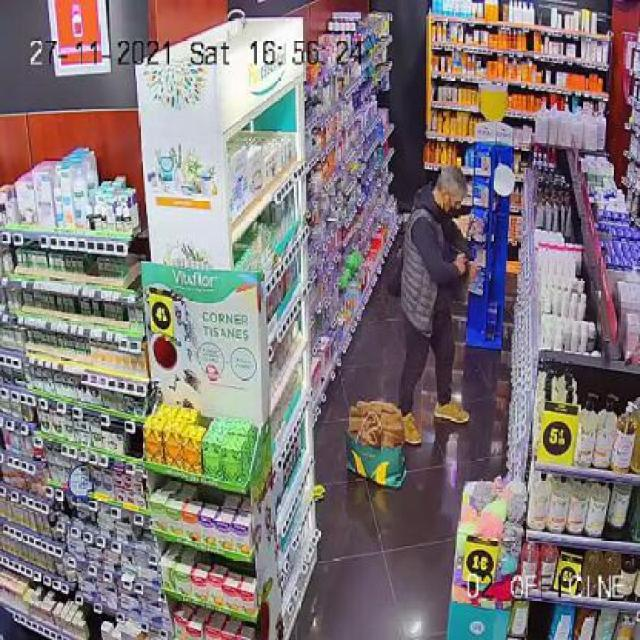Shoplifting: (375, 153, 490, 473)
